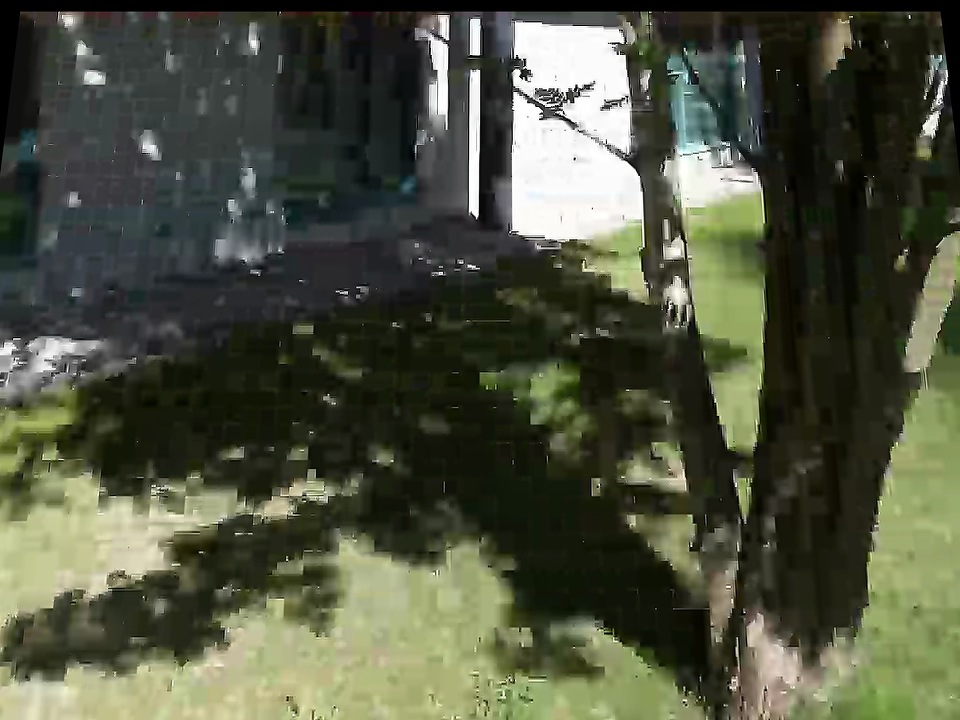branch: (507, 59, 631, 175)
trunk: (708, 42, 927, 697), (621, 43, 779, 602)
